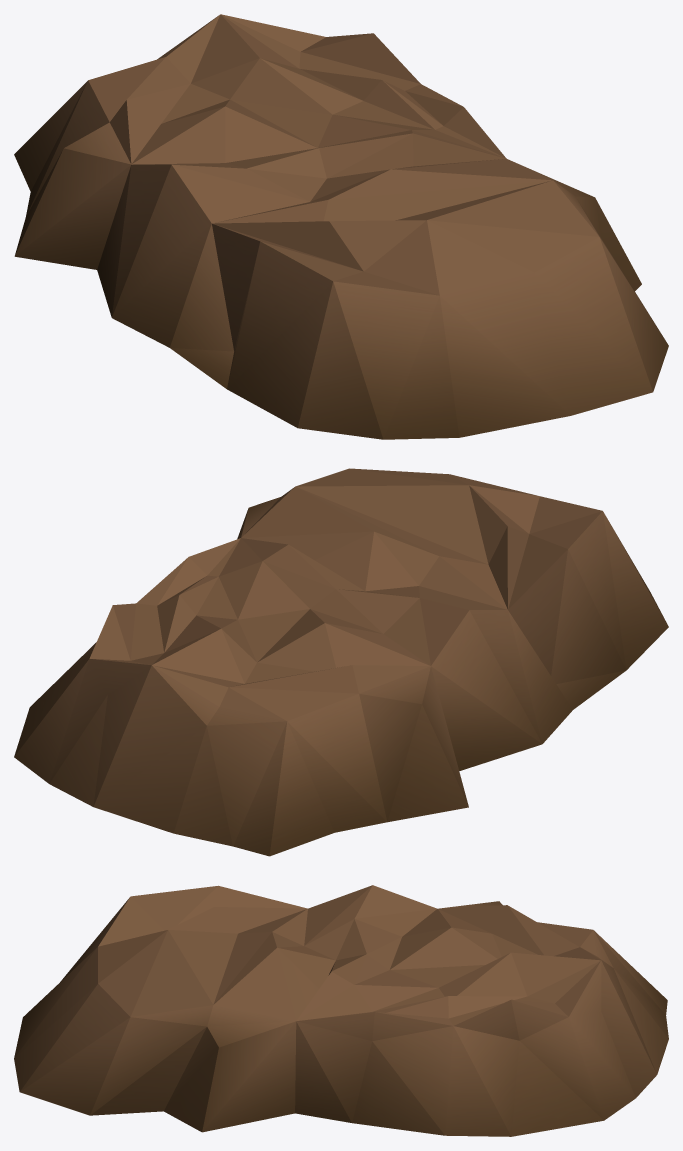
The model's file is ZLP_Road_A_4.FBX.
3 views of the same model, one above another, from view 1: azimuth 30°, elevation 25°; view 2: azimuth 150°, elevation 25°; view 3: azimuth 270°, elevation 25° (orthographic). The views are drawn at different scales.
Visible parts, largest first — view 1: ZLP_Road_A_4; view 2: ZLP_Road_A_4; view 3: ZLP_Road_A_4.
Part boxes in pixels (box(x1,y1,x2,y2)): ZLP_Road_A_4: box(14, 14, 668, 439); ZLP_Road_A_4: box(14, 468, 668, 856); ZLP_Road_A_4: box(14, 885, 668, 1136).
Bounding box in the file's own units: 204 × 59.09 × 318.
